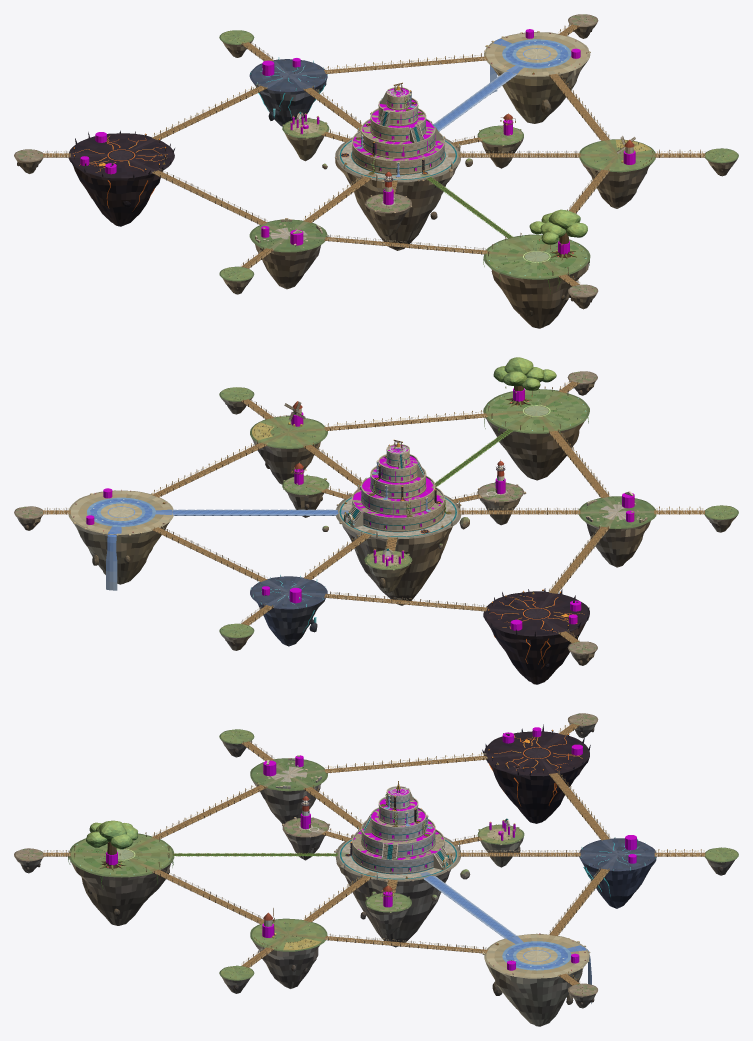
The model's file is skyfall_world.glb.
The picture shows the model from 3 angles, top to bottom: view 1: azimuth 30°, elevation 25°; view 2: azimuth 150°, elevation 25°; view 3: azimuth 270°, elevation 25°; orthographic projection.
Visible parts, largest first — view 1: isle_h_grass_mesh, isle_h_fire_mesh, isle_h_water_mesh, isle_heart_mesh, isle_w150_mesh, isle_w30_mesh, isle_w270_mesh, tier_1, isle_beacon_mesh, tier_2, isle_roost_mesh, isle_shrine_mesh (+7 smaller); view 2: isle_h_grass_mesh, isle_h_fire_mesh, isle_h_water_mesh, isle_heart_mesh, isle_w270_mesh, isle_w150_mesh, isle_w30_mesh, tier_1, isle_beacon_mesh, isle_shrine_mesh, isle_roost_mesh, tier_2 (+6 smaller); view 3: isle_h_grass_mesh, isle_h_water_mesh, isle_h_fire_mesh, isle_heart_mesh, isle_w30_mesh, isle_w270_mesh, isle_w150_mesh, tier_1, isle_beacon_mesh, isle_roost_mesh, isle_shrine_mesh, tier_2 (+7 smaller).
Part boxes in pixels (x1=…): isle_h_grass_mesh: x1=483, y1=209, x2=590, y2=328; isle_h_fire_mesh: x1=68, y1=130, x2=174, y2=226; isle_h_water_mesh: x1=484, y1=31, x2=590, y2=123; isle_heart_mesh: x1=322, y1=128, x2=472, y2=250; isle_w150_mesh: x1=249, y1=218, x2=327, y2=289; isle_w30_mesh: x1=579, y1=139, x2=655, y2=208; isle_w270_mesh: x1=249, y1=57, x2=327, y2=126; tier_1: x1=351, y1=130, x2=444, y2=174; isle_beacon_mesh: x1=364, y1=170, x2=411, y2=236; tier_2: x1=361, y1=119, x2=435, y2=158; isle_roost_mesh: x1=477, y1=113, x2=523, y2=168; isle_shrine_mesh: x1=282, y1=111, x2=329, y2=161; isle_h_grass_mesh: x1=483, y1=357, x2=589, y2=480; isle_h_fire_mesh: x1=483, y1=588, x2=589, y2=684; isle_h_water_mesh: x1=68, y1=489, x2=173, y2=584; isle_heart_mesh: x1=322, y1=485, x2=469, y2=605; isle_w270_mesh: x1=250, y1=575, x2=327, y2=646; isle_w150_mesh: x1=578, y1=491, x2=656, y2=567; isle_w30_mesh: x1=250, y1=401, x2=327, y2=484; tier_1: x1=352, y1=487, x2=444, y2=531; isle_beacon_mesh: x1=477, y1=459, x2=526, y2=525; isle_shrine_mesh: x1=364, y1=548, x2=412, y2=593; isle_roost_mesh: x1=282, y1=462, x2=329, y2=517; tier_2: x1=361, y1=476, x2=435, y2=515; isle_h_grass_mesh: x1=68, y1=820, x2=174, y2=925; isle_h_water_mesh: x1=482, y1=933, x2=590, y2=1026; isle_h_fire_mesh: x1=482, y1=724, x2=590, y2=823; isle_heart_mesh: x1=334, y1=827, x2=470, y2=947; isle_w30_mesh: x1=250, y1=912, x2=327, y2=988; isle_w270_mesh: x1=579, y1=837, x2=656, y2=908; isle_w150_mesh: x1=250, y1=755, x2=327, y2=823; tier_1: x1=352, y1=829, x2=444, y2=874; isle_beacon_mesh: x1=282, y1=795, x2=329, y2=860; isle_roost_mesh: x1=365, y1=885, x2=411, y2=935; isle_shrine_mesh: x1=477, y1=818, x2=524, y2=867; tier_2: x1=361, y1=819, x2=435, y2=857.
Size of the model in its own units: 290 by 79.18 by 314.
